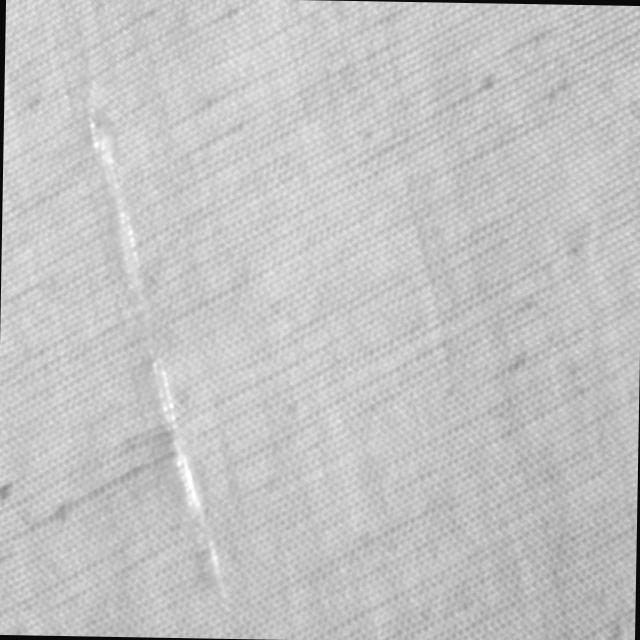thread error: (77, 94, 245, 618)
